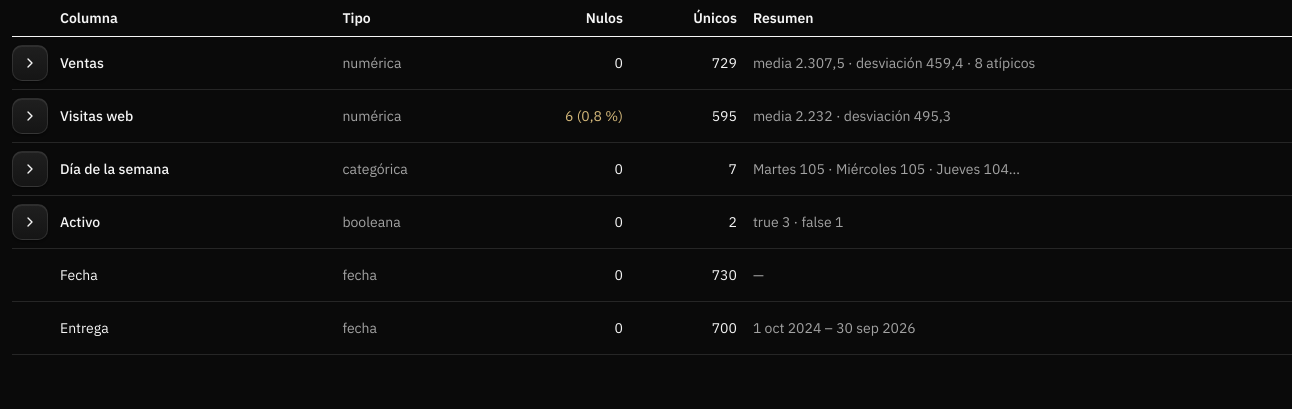
Scenario: ColumnTable › expands the Activo column to every category and its count
Expected: the text "Activo" shows "true 3 · false 1", top-left (753, 213), bottom-right (844, 231)
Click the button "Activo".
click(56, 222)  # box top-left (12, 200), bottom-right (100, 244)
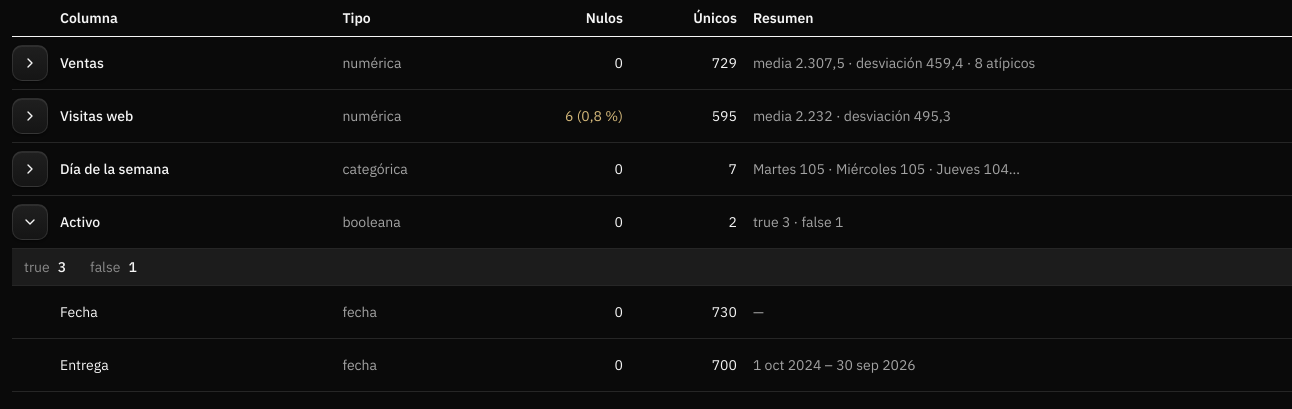
Expected: the button "Activo" is expanded, top-left (12, 200), bottom-right (100, 244)
